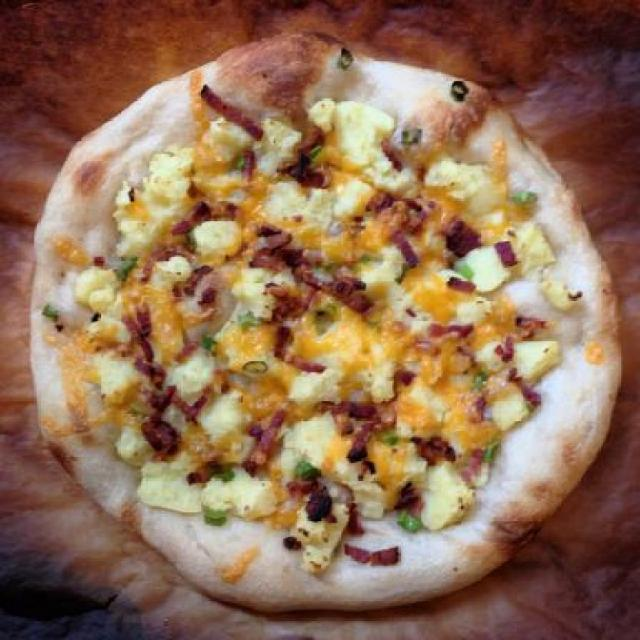Pizza: (9, 42, 640, 621)
